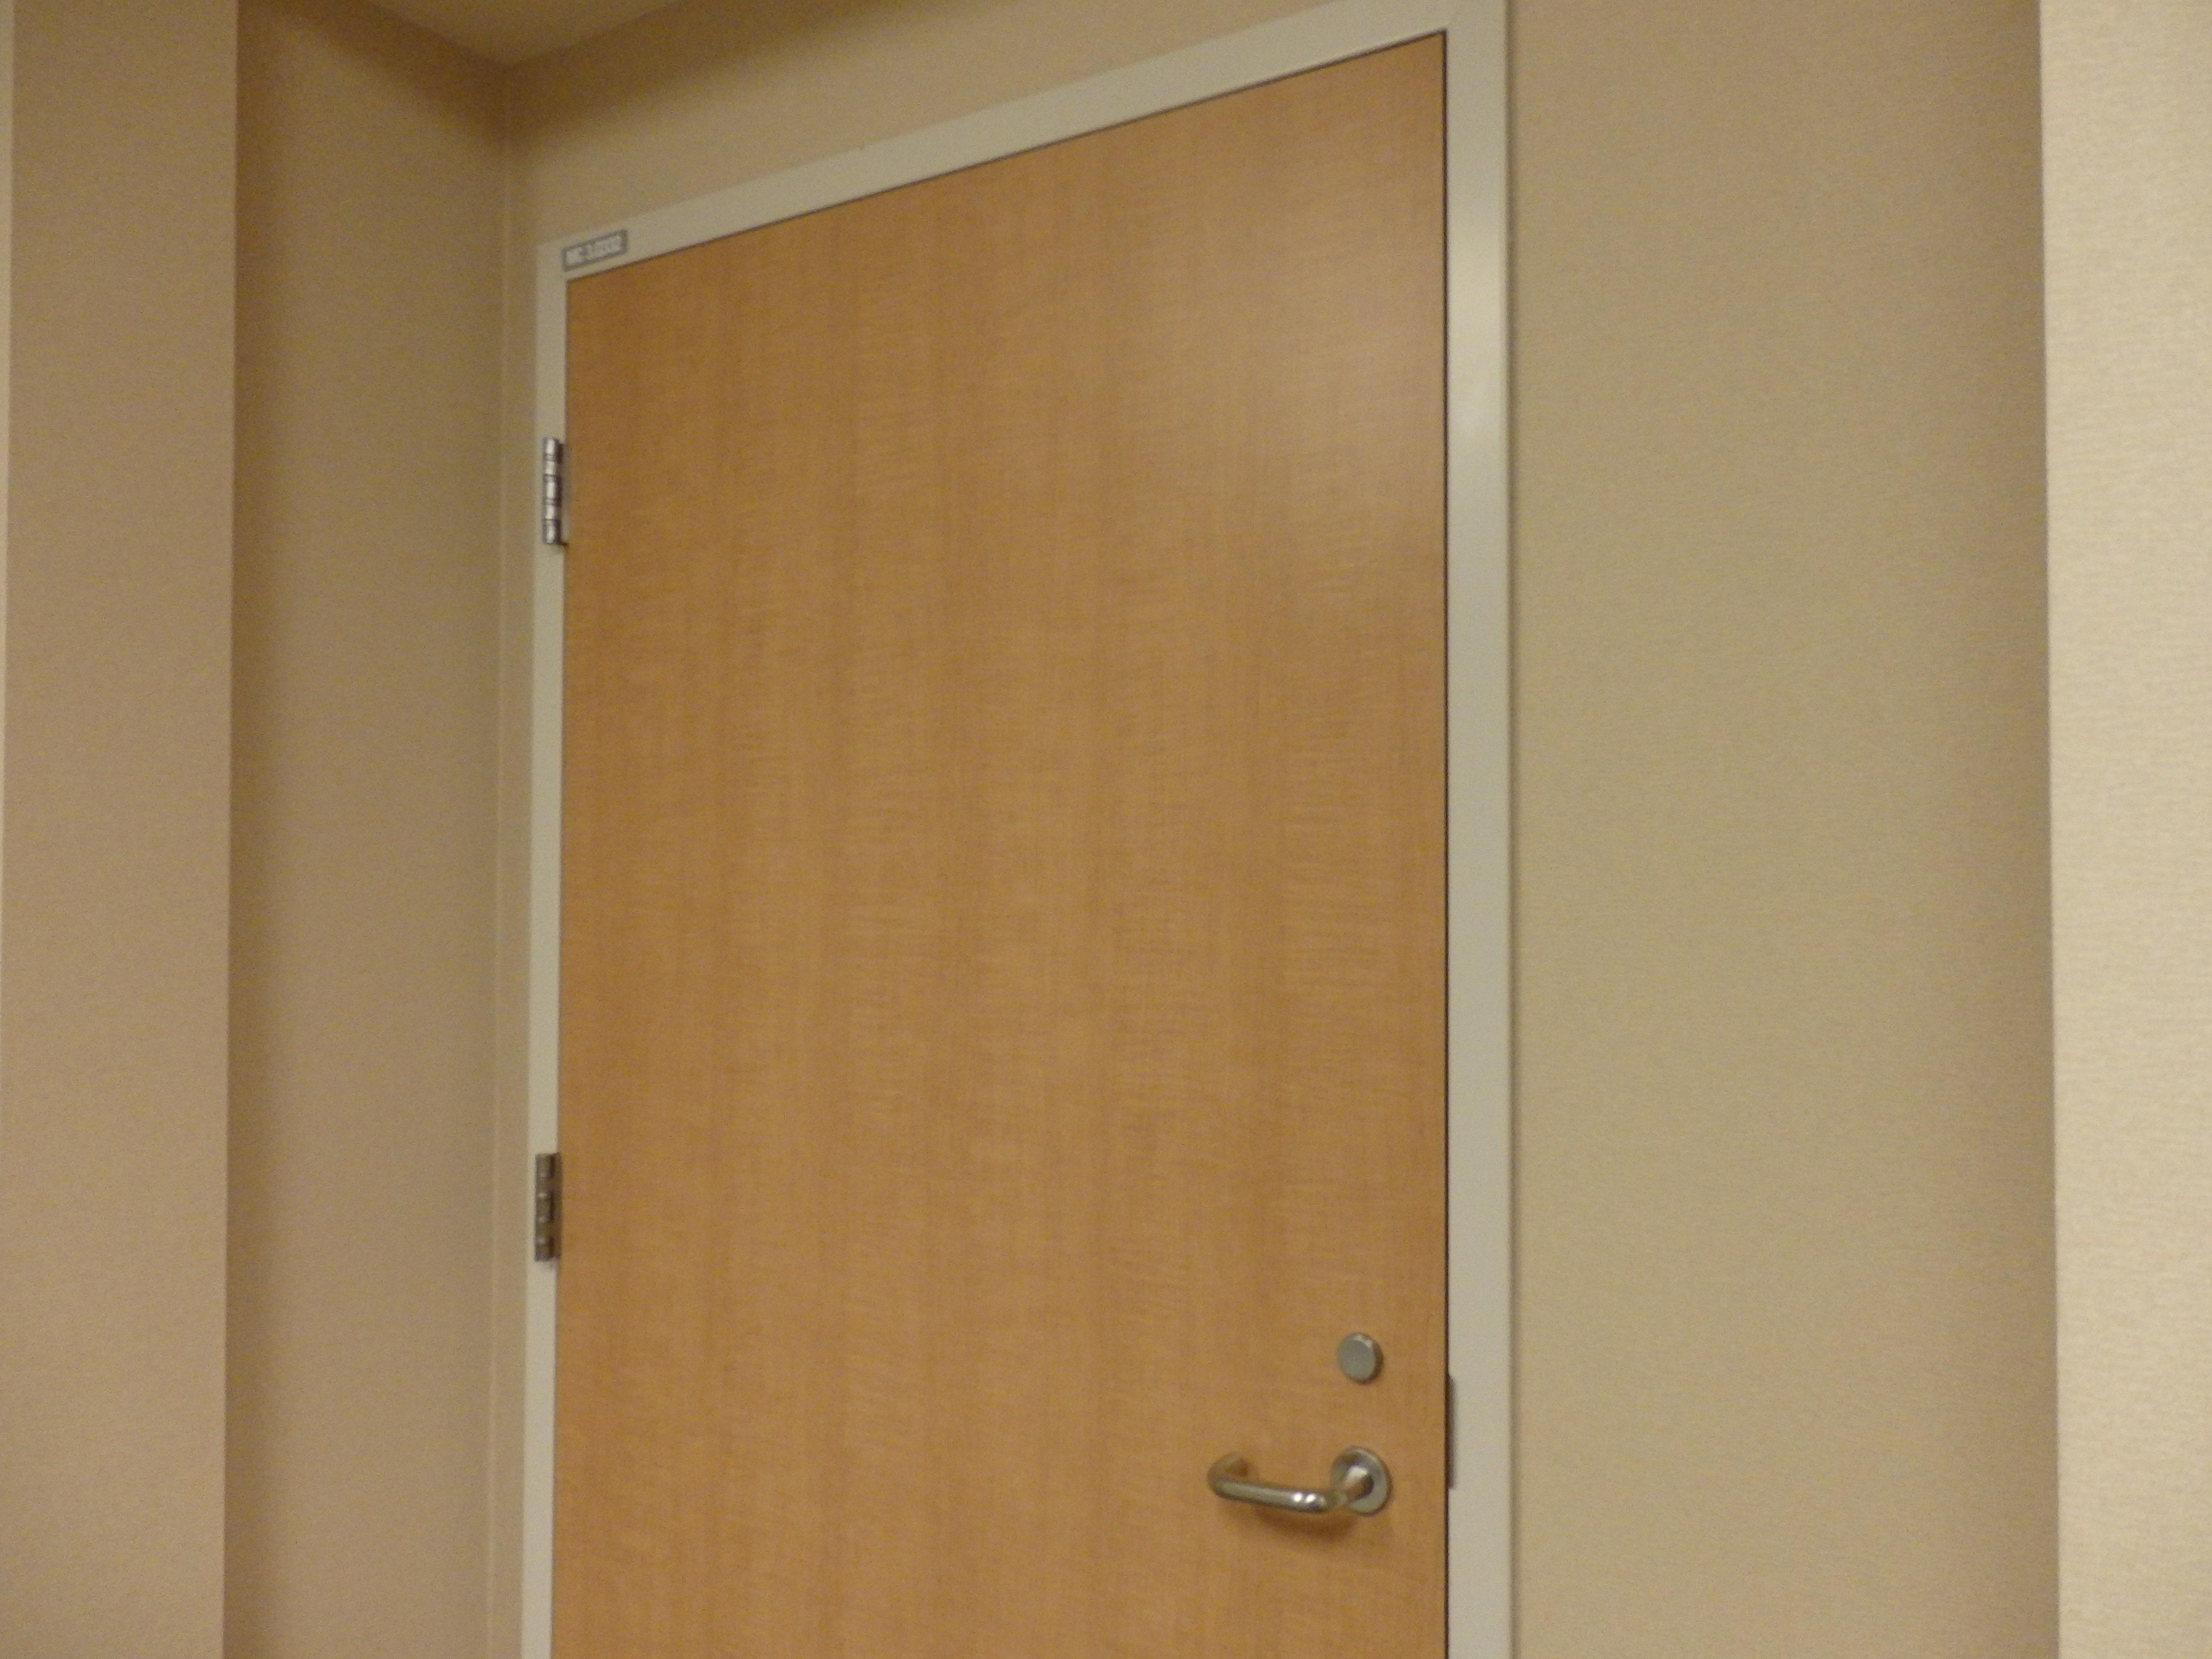door: (502, 23, 1465, 1659)
